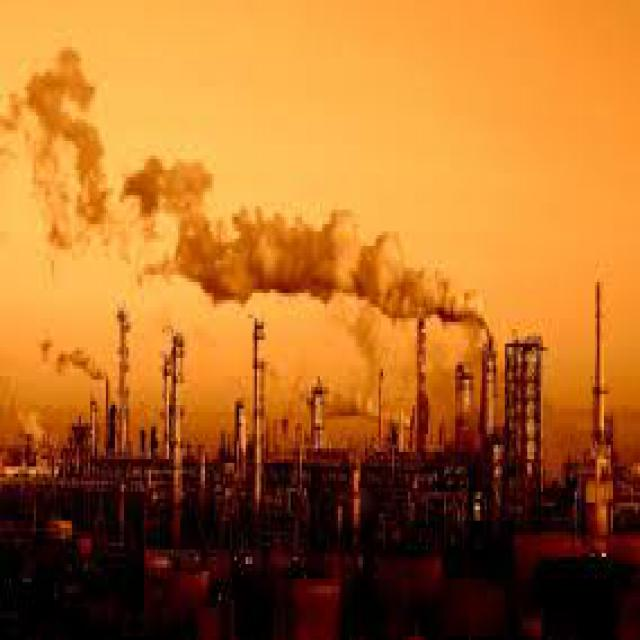smoke: (41, 65, 484, 347)
